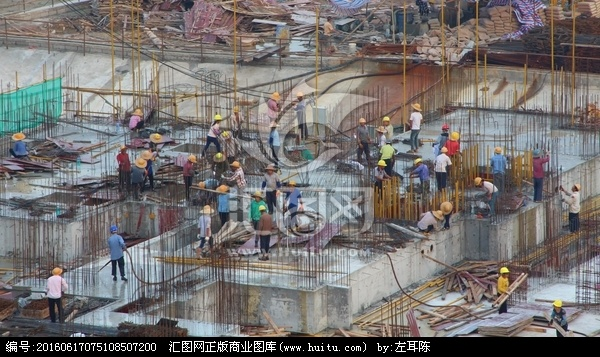blue: (532, 148, 541, 159), (109, 224, 118, 235), (384, 138, 392, 146)
none: (326, 15, 333, 22)
red: (441, 123, 450, 133)
yellow: (499, 266, 509, 279), (571, 183, 582, 194), (448, 131, 459, 142), (552, 300, 562, 311), (473, 176, 483, 187), (51, 267, 61, 278), (413, 156, 422, 167), (252, 190, 261, 201), (264, 163, 273, 174), (202, 204, 211, 215), (377, 159, 386, 169), (410, 104, 420, 113), (218, 185, 227, 195), (119, 144, 128, 154), (14, 132, 23, 142), (133, 108, 142, 118), (434, 209, 442, 220), (215, 153, 224, 162), (494, 146, 502, 156), (271, 91, 279, 101), (188, 154, 196, 164), (440, 146, 448, 155), (382, 116, 390, 125), (358, 117, 366, 126), (377, 126, 385, 135), (288, 180, 296, 189), (258, 205, 266, 214), (214, 114, 222, 123), (232, 105, 240, 114), (223, 131, 231, 140), (231, 161, 239, 169), (198, 181, 206, 189), (295, 91, 302, 100)
